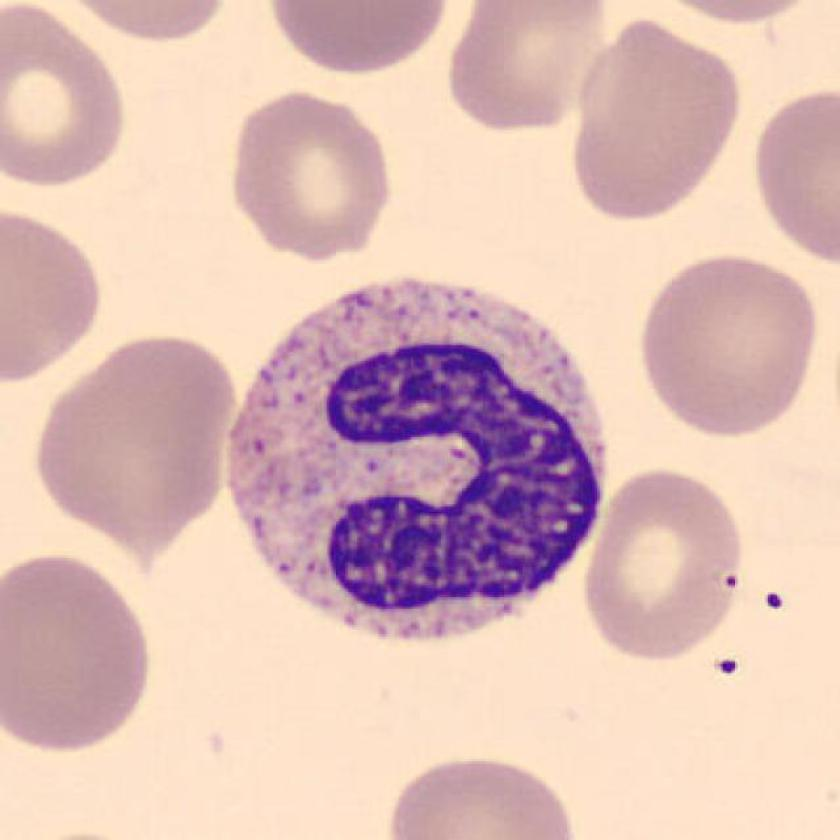neutrophil: (225, 280, 605, 639)
